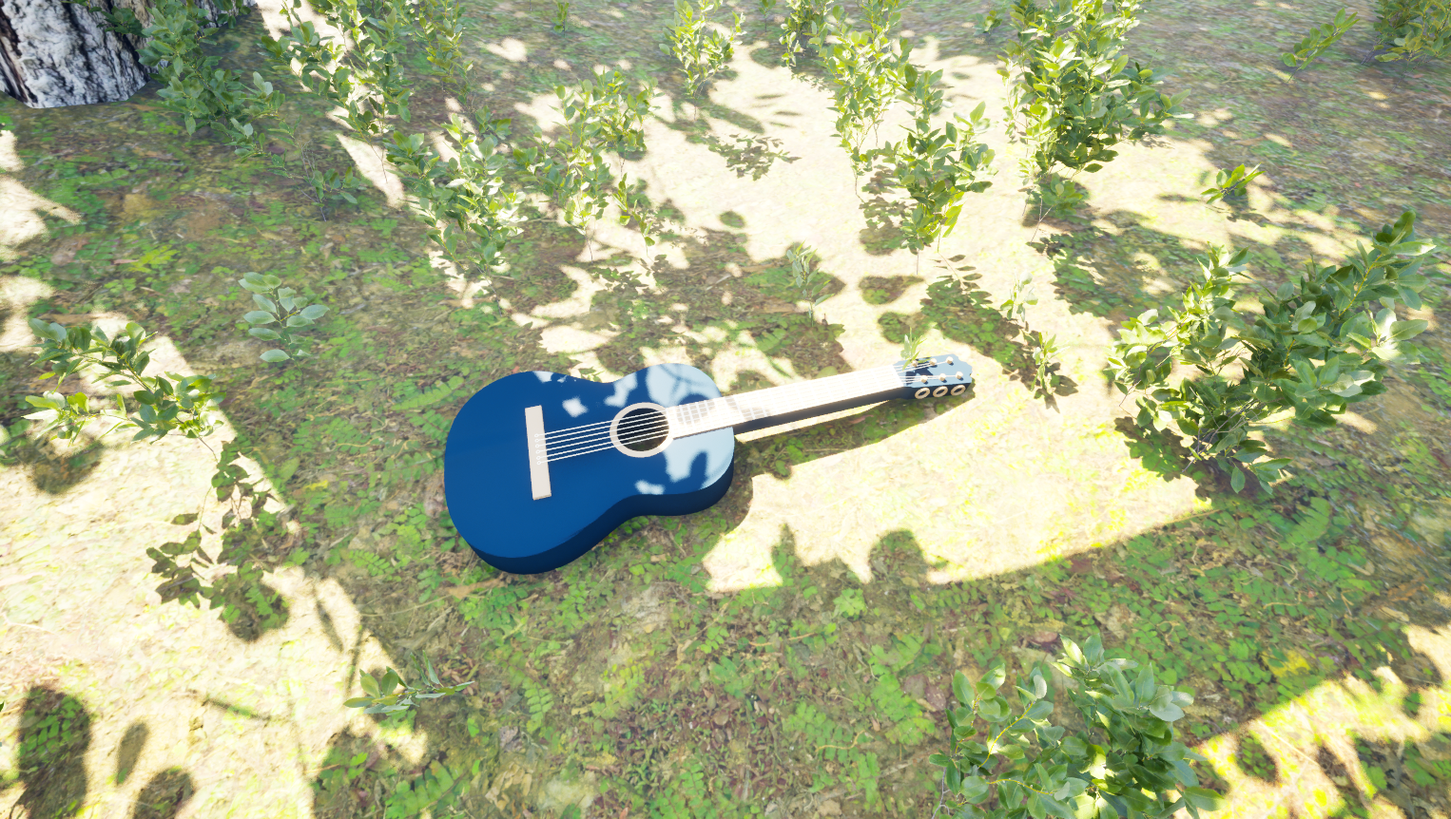Guitar: (441, 290, 1028, 595)
